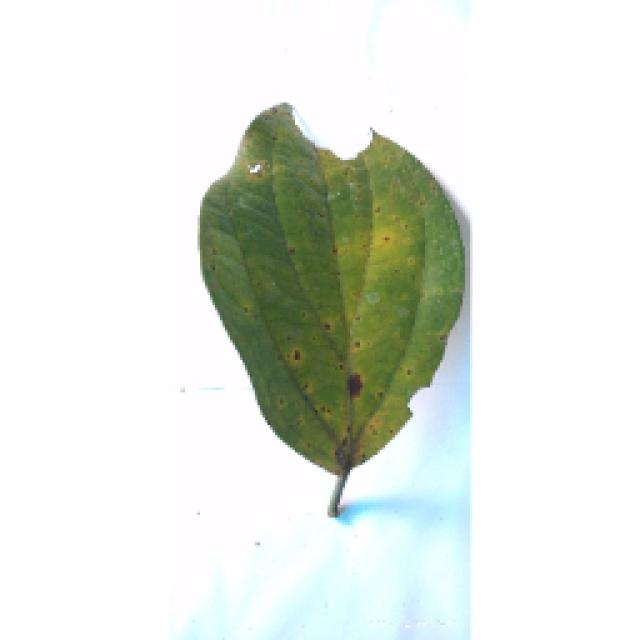slow-decline: (185, 92, 467, 518)
